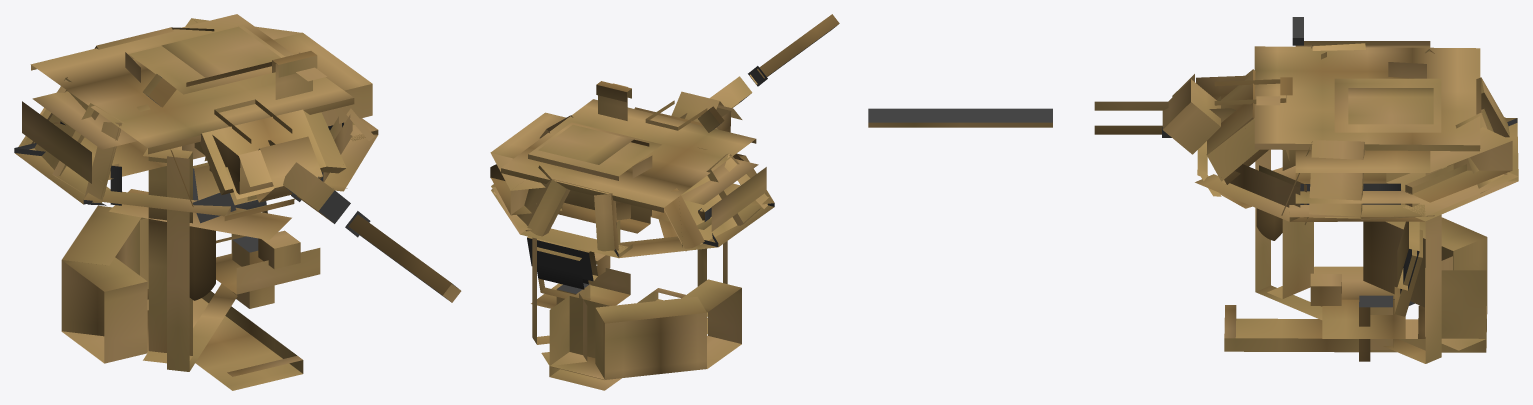
The model's file is bmp1_turret.obj.
3 renders of one model, left to right at view 1: azimuth 30°, elevation 25°; view 2: azimuth 150°, elevation 25°; view 3: azimuth 270°, elevation 25°, orthographic. The views are drawn at different scales.
Visible parts, largest first — view 1: turret, gun; view 2: turret, gun; view 3: turret, gun.
Boxes of the visible parts, box(x1,y1,x2,y2) form: turret: box(14, 14, 378, 390); gun: box(225, 136, 461, 302); turret: box(490, 81, 774, 390); gun: box(671, 14, 839, 122); turret: box(1195, 17, 1518, 363); gun: box(868, 74, 1220, 154).
Bounding box in the file's own units: 1.82 × 1.77 × 3.62.
